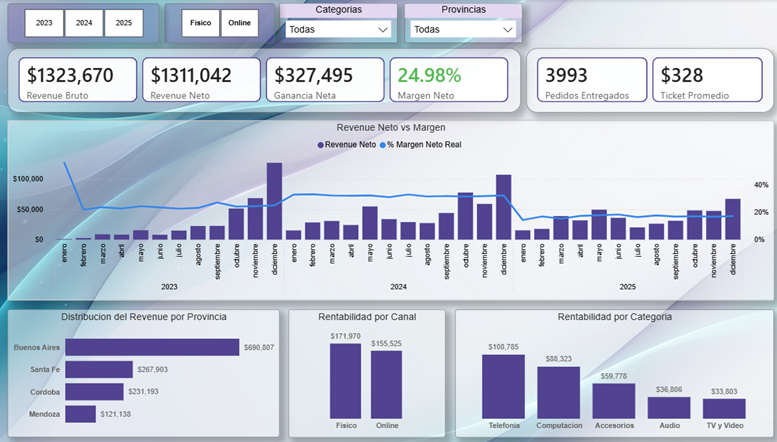

This screenshot's page, from the dashboard's own definition file:
{"tool":"powerbi","page":{"name":"D. Ejecutivo","canvas":[1300,740],"ordinal":0},"visuals":[{"type":"lineClusteredColumnComboChart","title":"Revenue Neto vs Margen","fields":{"Category":["dim_calendario.Año","dim_calendario.Mes Name"],"Y":["_medidas.Revenue Neto"],"Y2":["_medidas.% Margen Neto Real"]},"box":[15,201.4,1276.4,299.6],"z":0},{"type":"clusteredColumnChart","title":"Rentabilidad por Canal","fields":{"Category":["fact_pedidos_final.canal_venta"],"Y":["_medidas.Ganancia Neta Real"]},"box":[482.6,515.9,261.3,213],"z":1000},{"type":"clusteredBarChart","title":"Distribucion del Revenue por Provincia","fields":{"Category":["dim_clientes.provincia"],"Y":["_medidas.Revenue Neto"]},"box":[14.7,516.3,452.8,212.6],"z":2000},{"type":"slicer","fields":{"Values":["dim_calendario.Año"]},"box":[14.6,6.8,252.6,66.3],"z":4000},{"type":"slicer","title":"Categorias","fields":{"Values":["dim_productos.categoria"]},"box":[468.1,6.8,197,66.3],"z":5000},{"type":"slicer","title":"Provincias","fields":{"Values":["dim_clientes.provincia"]},"box":[675.8,6.8,197,66.3],"z":6000},{"type":"slicer","fields":{"Values":["fact_pedidos_final.canal_venta"]},"box":[276,6.8,183.3,66.3],"z":7000},{"type":"cardVisual","fields":{"Data":["_medidas.Revenue Bruto","_medidas.Revenue Neto","_medidas.Ganancia Neta Real","_medidas.% Margen Neto Real"]},"box":[14.5,80.9,854.8,107],"z":8000},{"type":"cardVisual","fields":{"Data":["_medidas.Pedidos Entregados","_medidas.Ticket Promedio"]},"box":[878.9,80.9,412.5,107],"z":9000},{"type":"clusteredColumnChart","title":"Rentabilidad por Categoria","fields":{"Category":["dim_productos.categoria"],"Y":["_medidas.Ganancia Neta Real"]},"box":[760.5,515.9,530.9,213],"z":9001}]}

Visuals, with their boxes in screenshot pixels (x1, y1, x2, y2), scaled from the page's 1300x740 canvas onto the 777x442 screenshot:
"Revenue Neto vs Margen" lineClusteredColumnComboChart: Rect(9, 120, 772, 299)
"Rentabilidad por Canal" clusteredColumnChart: Rect(288, 308, 445, 435)
"Distribucion del Revenue por Provincia" clusteredBarChart: Rect(9, 308, 279, 435)
slicer - dim_calendario.Año: Rect(9, 4, 160, 44)
"Categorias" slicer: Rect(280, 4, 398, 44)
"Provincias" slicer: Rect(404, 4, 522, 44)
slicer - fact_pedidos_final.canal_venta: Rect(165, 4, 275, 44)
cardVisual - _medidas.Revenue Bruto x _medidas.Revenue Neto: Rect(9, 48, 520, 112)
cardVisual - _medidas.Pedidos Entregados x _medidas.Ticket Promedio: Rect(525, 48, 772, 112)
"Rentabilidad por Categoria" clusteredColumnChart: Rect(455, 308, 772, 435)
